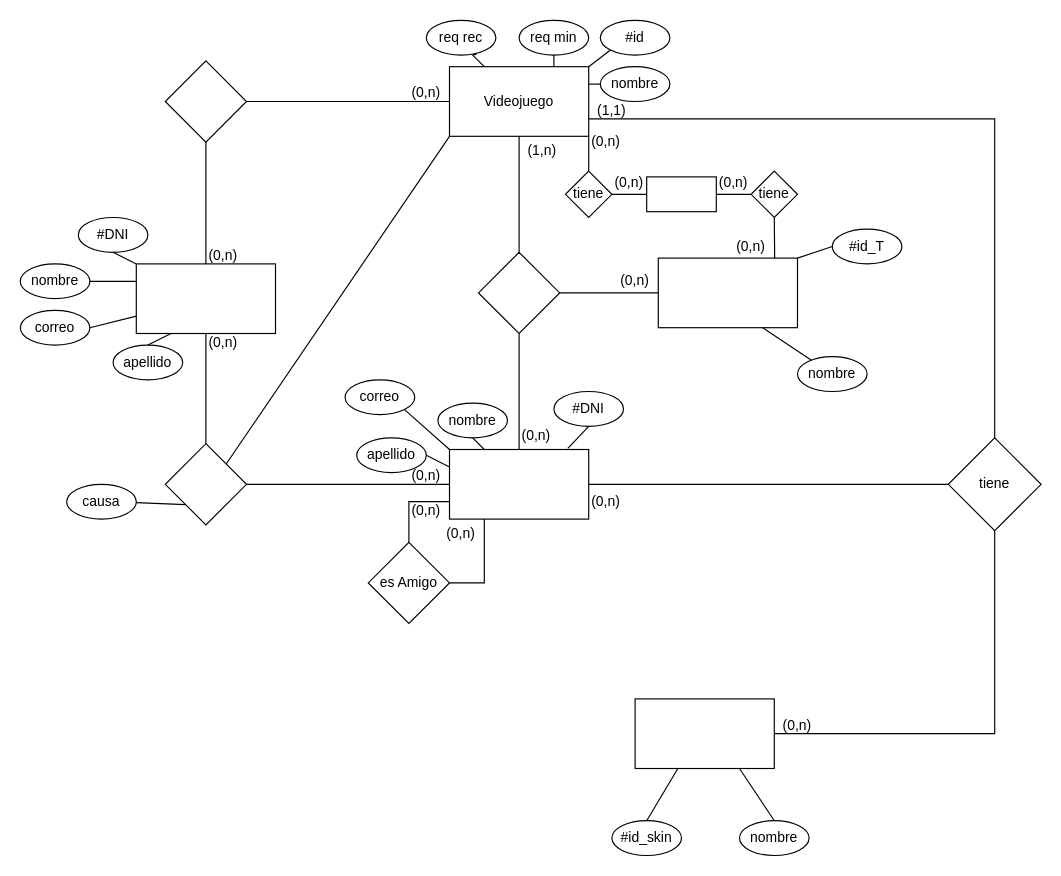
Image size: 1061x876. Some labels were removed from this diagram. The centre of each missing label's shape, as x and y in pixels:
administra: the point at 205,101
administrador: the point at 205,298
juega: the point at 518,292
jugador: the point at 518,483
penaliza: the point at 205,484
recompen: the point at 681,194
skin: the point at 704,733
torneos: the point at 727,292
